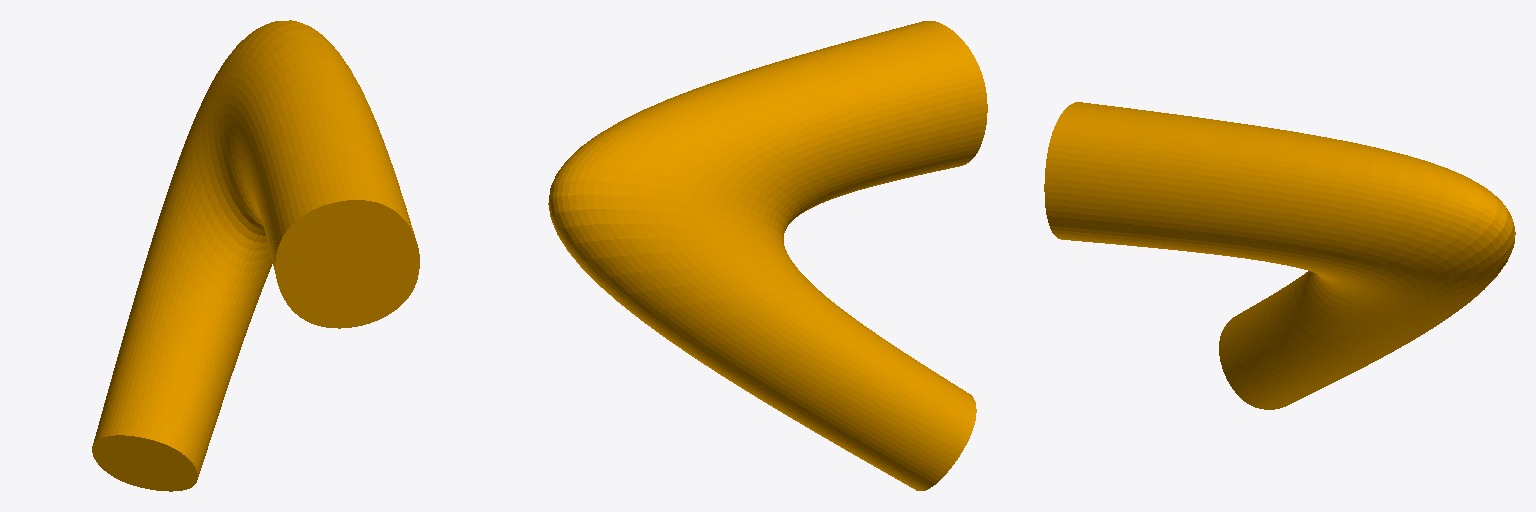
URDF robot description (object):
<robot name="object">
  <link name="object">
    <visual>
      <origin xyz="0 0 0"/>
      <geometry>
        <mesh filename="visual.obj" scale="1 1 1"/>
      </geometry>
    </visual>
    <collision>
      <origin xyz="0 0 0"/>
      <geometry>
        <mesh filename="collision.obj" scale="1 1 1"/>
      </geometry>
    </collision>
    <inertial>
      <mass value="0.05"/>
      <inertia ixx="4.286231318996892e-05" iyy="2.6868275268941854e-05" izz="3.6191366289693495e-05" ixy="-5.594186572110701e-06" ixz="-8.560834045897841e-06" iyz="4.461741194101156e-06"/>
    </inertial>
  </link>
</robot>

--- Facts derived from the render (not from the file) ---
3 views of the same robot in one strip: view 1: azimuth 30°, elevation 25°; view 2: azimuth 150°, elevation 25°; view 3: azimuth 270°, elevation 25° (orthographic).
Robot: object — 1 links, 0 joints (none); root link object; default pose: every joint at zero.
Links seen in each view (by area): view 1: object; view 2: object; view 3: object.
Link boxes in pixels (x1,y1,x2,y2): object: (92, 20, 419, 491); object: (548, 21, 987, 490); object: (1044, 102, 1515, 409).
Bounding box of the posed robot: 0.0726 × 0.0985 × 0.0795 m (x, y, z).
Meshes: 1 distinct files referenced, 1 mesh visuals loaded (1 OBJ).
